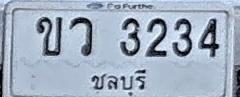2: (146, 17, 167, 56)
3: (120, 16, 140, 56), (172, 17, 192, 56)
4: (199, 17, 219, 56)
A02: (36, 15, 63, 56)
A37: (70, 16, 92, 56)
CBI: (86, 66, 150, 97)
